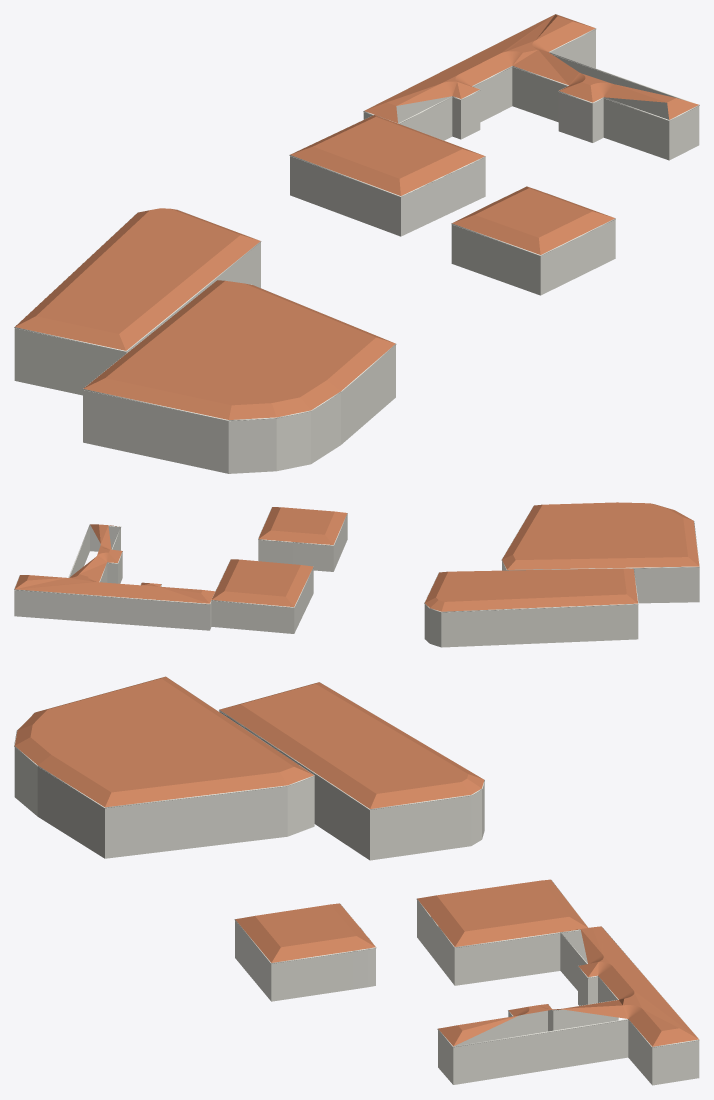
Rendered from long-xuyen-canal-courtyard-lod.glb.
3 renders of one model, top to bottom at view 1: azimuth 30°, elevation 25°; view 2: azimuth 150°, elevation 25°; view 3: azimuth 270°, elevation 25°, orthographic. The views are drawn at different scales.
Visible parts, largest first — view 1: Canal_courtyard_LOD_campusroof, Canal_courtyard_LOD_white; view 2: Canal_courtyard_LOD_campusroof, Canal_courtyard_LOD_white; view 3: Canal_courtyard_LOD_campusroof, Canal_courtyard_LOD_white.
Boxes of the visible parts, x1,y1,x2,y2 form: Canal_courtyard_LOD_campusroof: (15,14,698,419); Canal_courtyard_LOD_white: (14,14,699,473); Canal_courtyard_LOD_campusroof: (15,502,699,611); Canal_courtyard_LOD_white: (14,506,699,647); Canal_courtyard_LOD_campusroof: (14,676,698,1046); Canal_courtyard_LOD_white: (14,676,699,1085).
Bounding box in the file's own units: 217 × 16.62 × 176.
